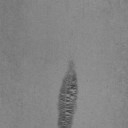oxide scale of plate system: (56, 59, 82, 128)
